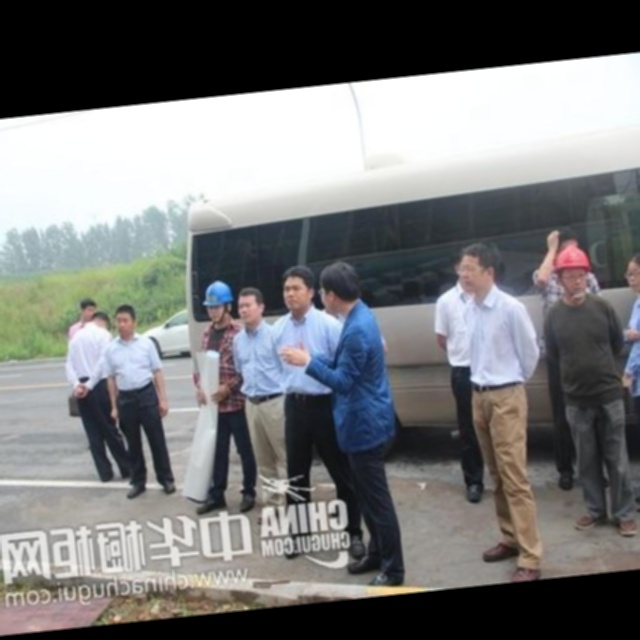Con_Casco: (552, 244, 593, 302), (201, 279, 235, 326)
Sin_Casco_Mascarrilla: (278, 263, 316, 312), (235, 285, 267, 328)
